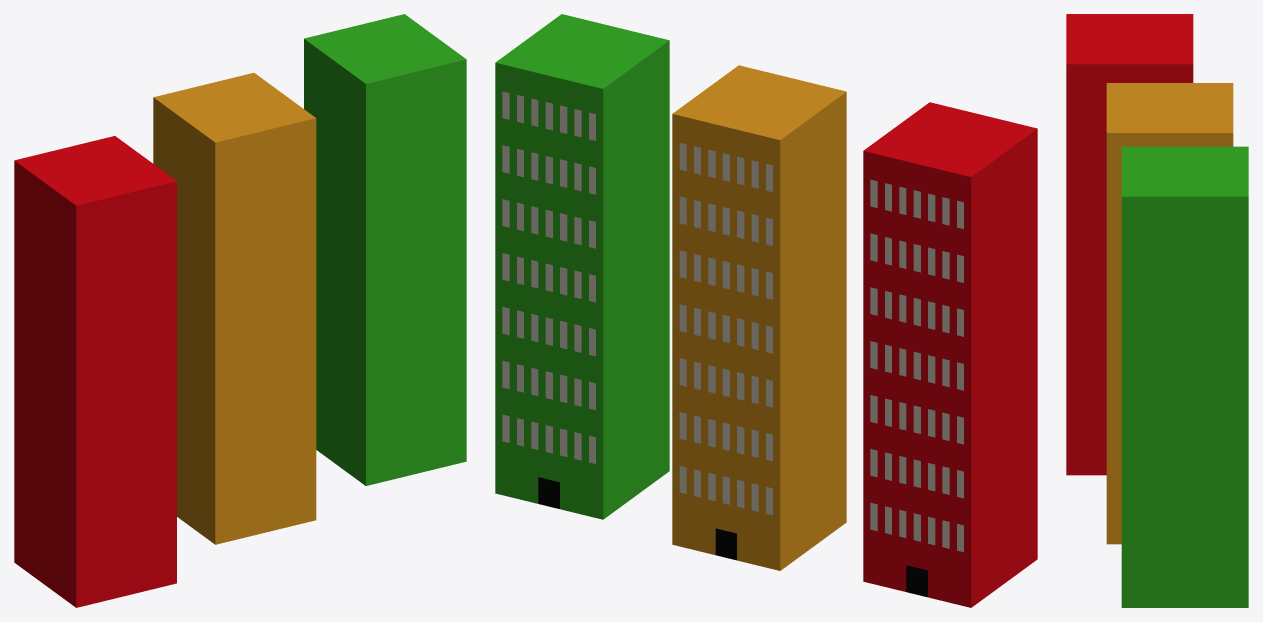
File: skyscrapers.fbx
The picture shows the model from 3 angles, left to right: view 1: azimuth 30°, elevation 25°; view 2: azimuth 150°, elevation 25°; view 3: azimuth 270°, elevation 25°; orthographic projection. The views are drawn at different scales.
Parts seen in each view (by area): view 1: Cube.002, Cube, Cube.001; view 2: Cube.001, Cube.002, Cube; view 3: Cube, Cube.002, Cube.001.
Boxes of the visible parts, box(x1,y1,x2,y2) form: Cube.002: box(14, 136, 176, 607); Cube: box(304, 14, 466, 485); Cube.001: box(153, 73, 316, 544); Cube.001: box(672, 65, 846, 570); Cube.002: box(863, 102, 1037, 607); Cube: box(495, 14, 669, 519); Cube: box(1121, 146, 1248, 607); Cube.002: box(1066, 14, 1193, 475); Cube.001: box(1106, 83, 1233, 544).
Bounding box in the file's own units: 777 × 759 × 287.
